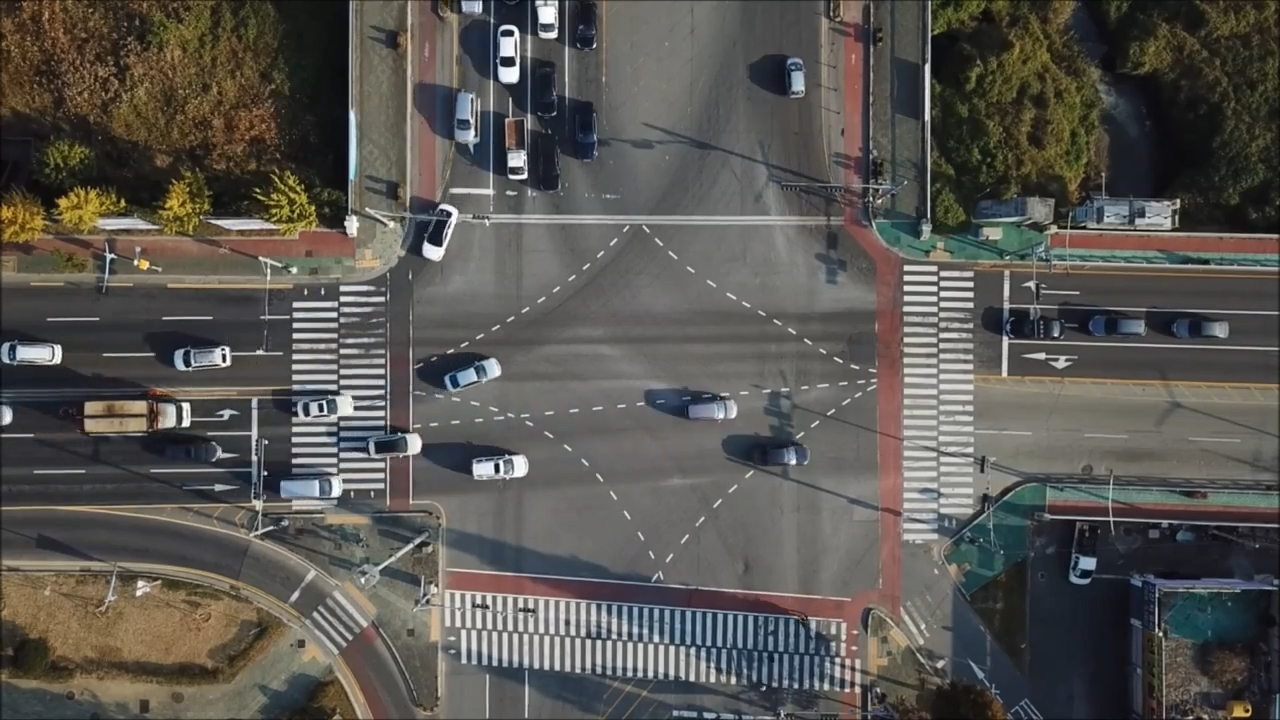car: (79, 400, 196, 436), (420, 201, 460, 263), (445, 354, 501, 392), (1067, 521, 1097, 586), (148, 440, 222, 466), (468, 451, 529, 481), (171, 343, 232, 373), (1171, 313, 1233, 341), (492, 21, 519, 85), (1089, 312, 1150, 339), (1, 342, 64, 368), (277, 477, 342, 502), (534, 124, 559, 189), (454, 86, 480, 148), (755, 442, 812, 470), (296, 395, 357, 421), (1006, 316, 1070, 340), (369, 430, 423, 458), (502, 113, 526, 175), (532, 55, 557, 114), (574, 102, 596, 162), (684, 398, 739, 422), (573, 1, 595, 50), (784, 54, 806, 98), (533, 1, 559, 36)
